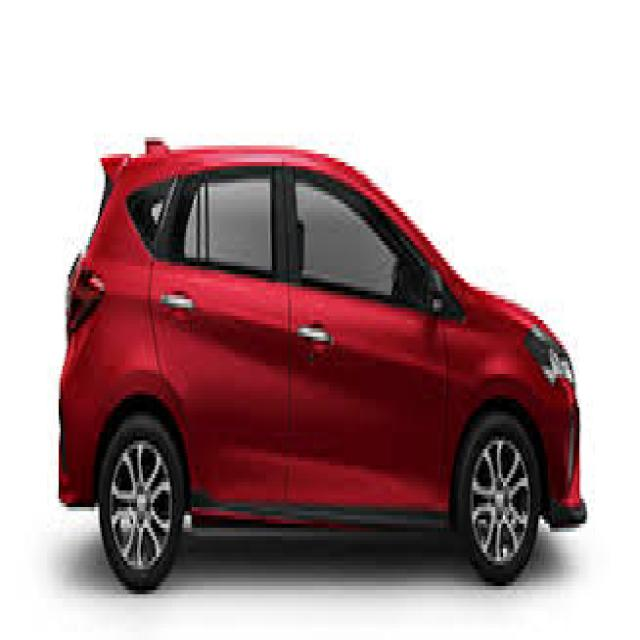PeroduaMyvi: (57, 133, 587, 590)
